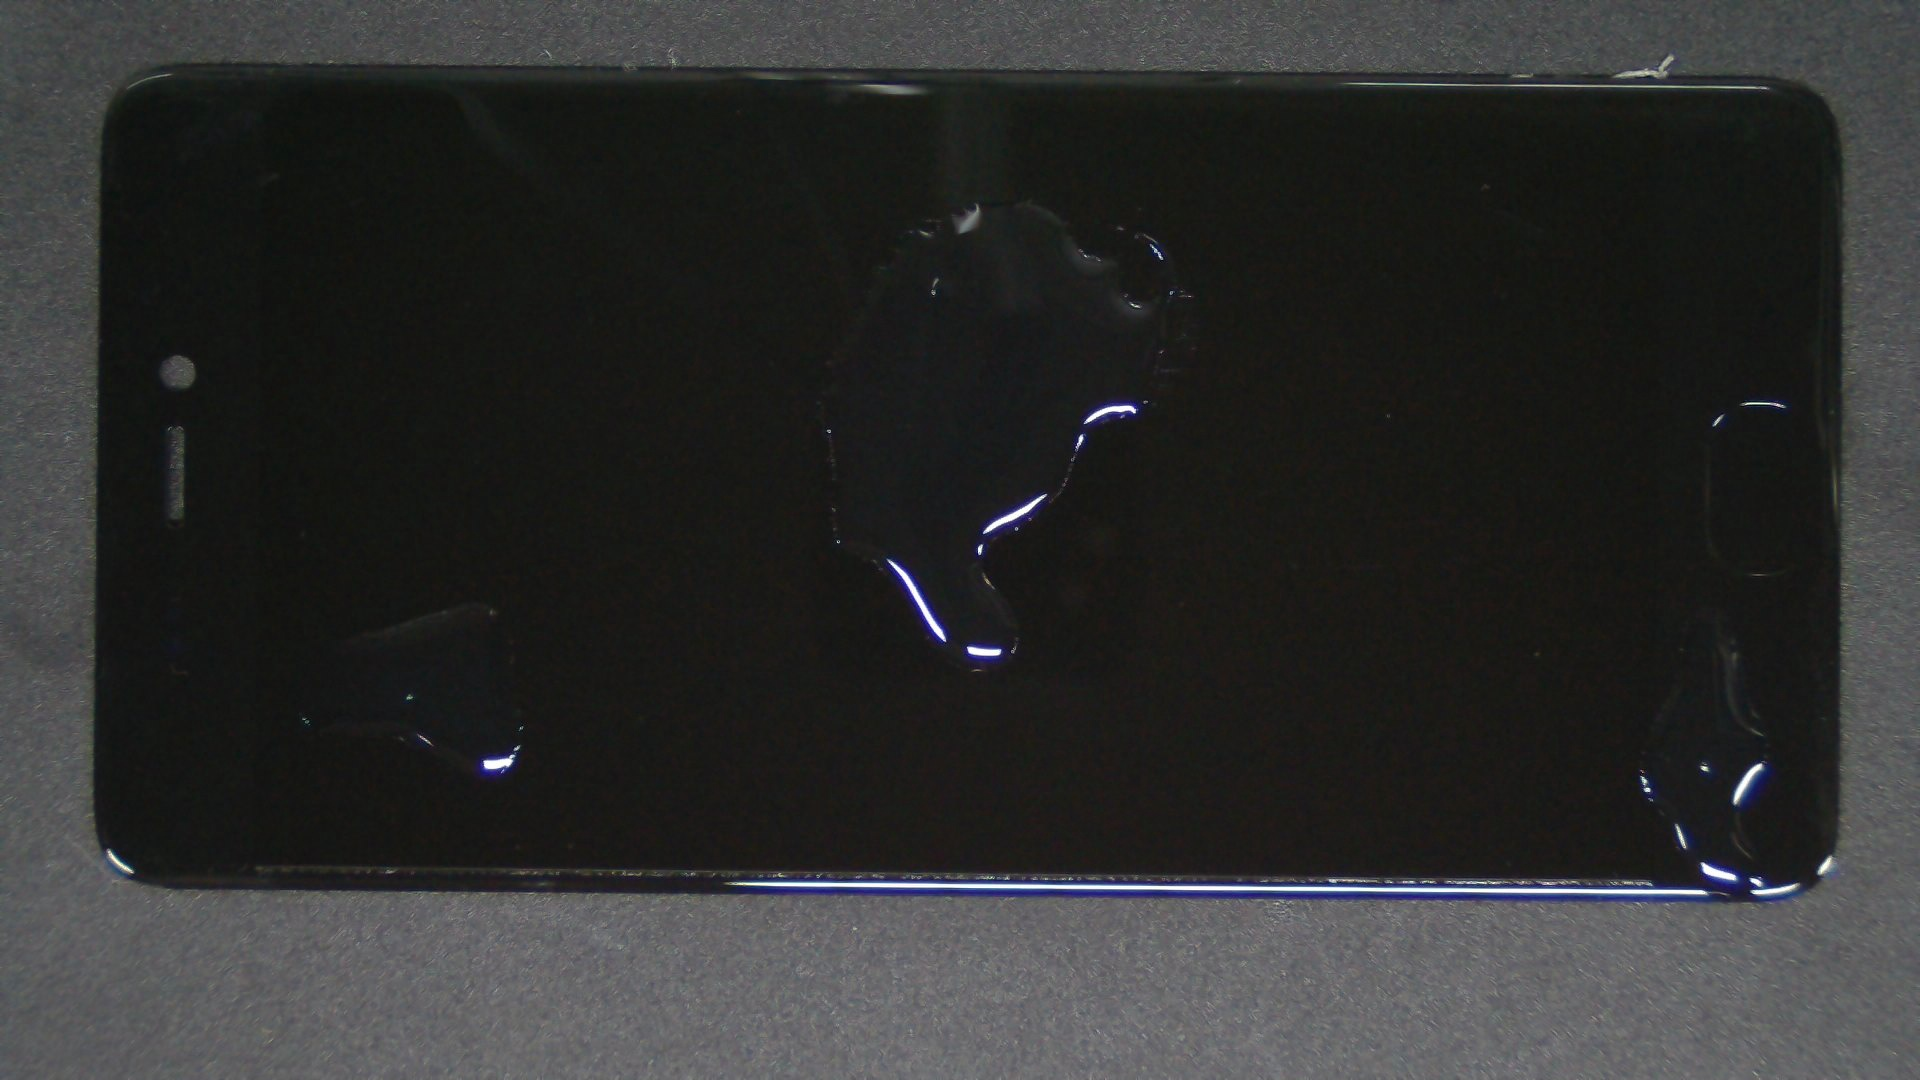oil: (852, 302, 1920, 910), (237, 301, 709, 905), (508, 99, 1520, 301)
